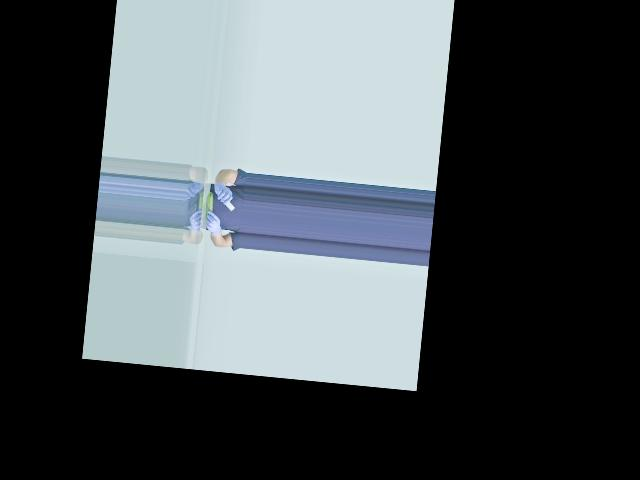cucumber: (204, 191, 214, 219)
